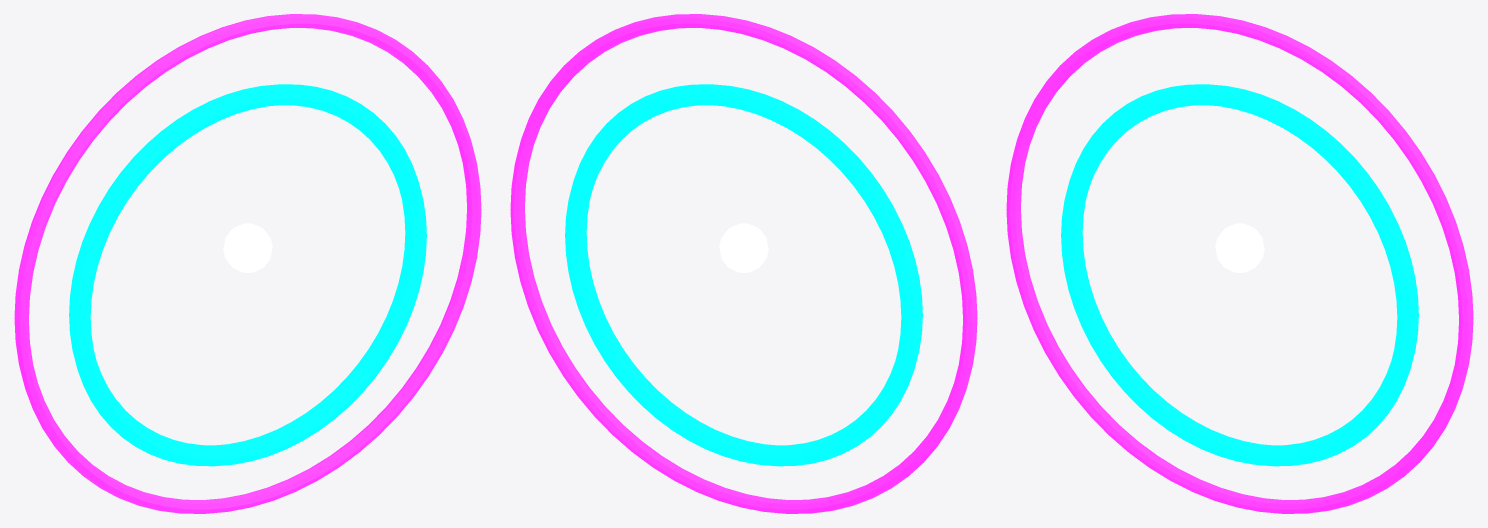
Rendered from nova_burst.glb.
3 views of the same model, side by side, from view 1: azimuth 30°, elevation 25°; view 2: azimuth 150°, elevation 25°; view 3: azimuth 330°, elevation 25° (orthographic).
Visible parts, largest first — view 1: NovaBurstOuterPulseRing, NovaBurstMagentaWaveRing, NovaBurstWhiteCenter; view 2: NovaBurstOuterPulseRing, NovaBurstMagentaWaveRing, NovaBurstWhiteCenter; view 3: NovaBurstOuterPulseRing, NovaBurstMagentaWaveRing, NovaBurstWhiteCenter.
Boxes of the visible parts, bbox=[...] form: NovaBurstOuterPulseRing: bbox=[69, 84, 426, 466]; NovaBurstMagentaWaveRing: bbox=[14, 14, 481, 513]; NovaBurstWhiteCenter: bbox=[223, 223, 272, 272]; NovaBurstOuterPulseRing: bbox=[565, 84, 922, 466]; NovaBurstMagentaWaveRing: bbox=[510, 14, 977, 513]; NovaBurstWhiteCenter: bbox=[719, 223, 768, 272]; NovaBurstOuterPulseRing: bbox=[1061, 84, 1418, 466]; NovaBurstMagentaWaveRing: bbox=[1006, 14, 1473, 513]; NovaBurstWhiteCenter: bbox=[1215, 223, 1264, 272].
Bounding box in the file's own units: 2.29 × 2.29 × 0.212.
